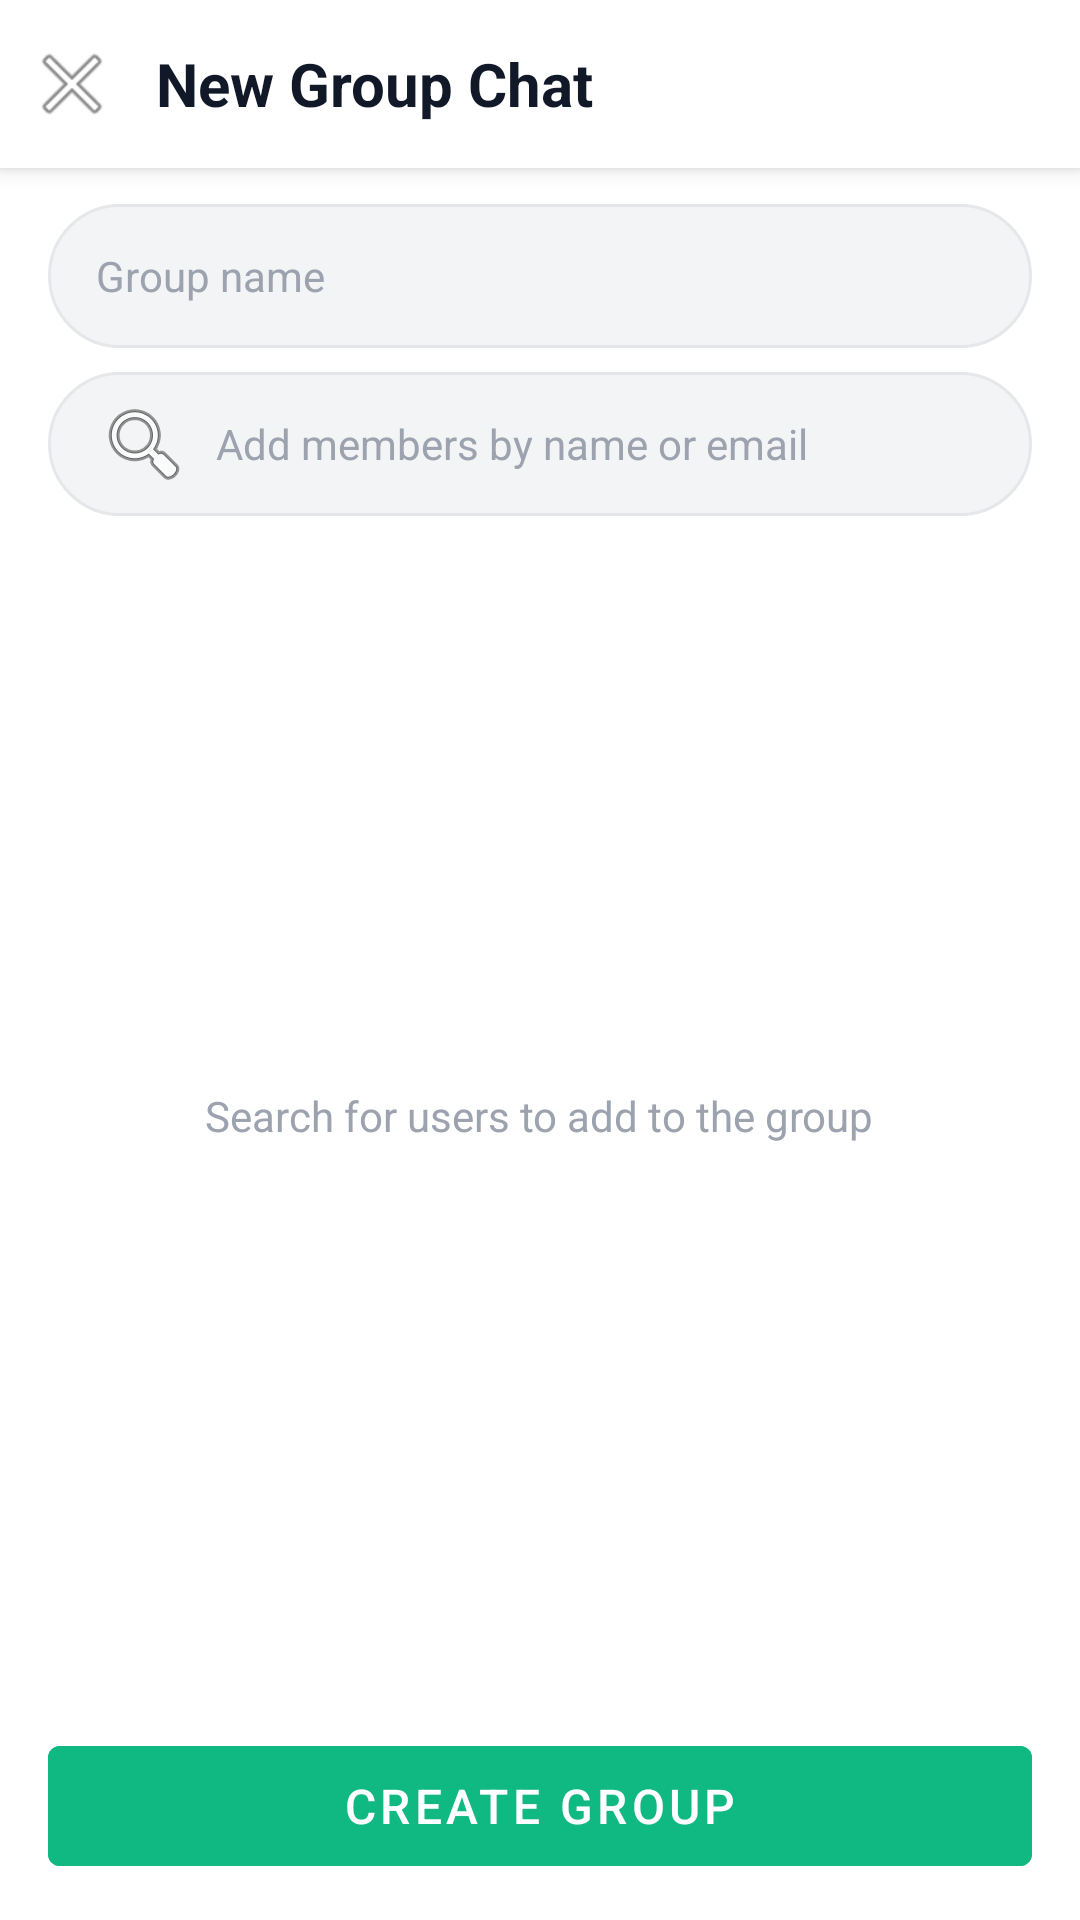

Screen size 1080px x 1920px. Icon name, then its center in pixels as point (x, y):
Close: point (72, 84)
